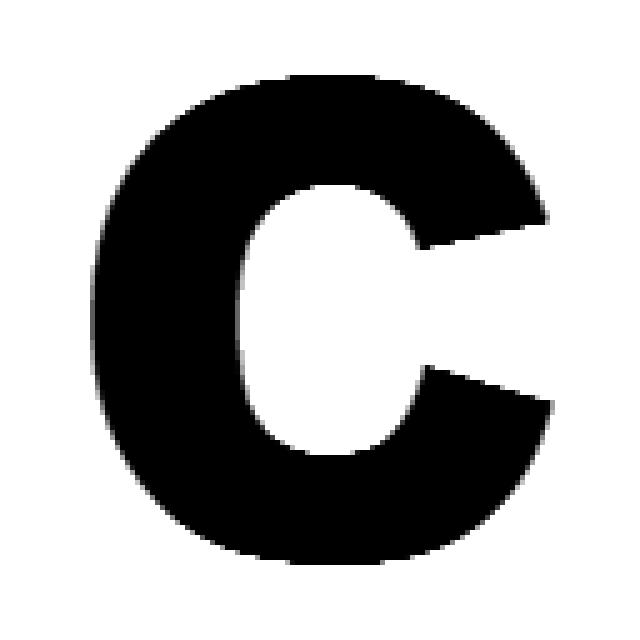C: (90, 75, 555, 570)
